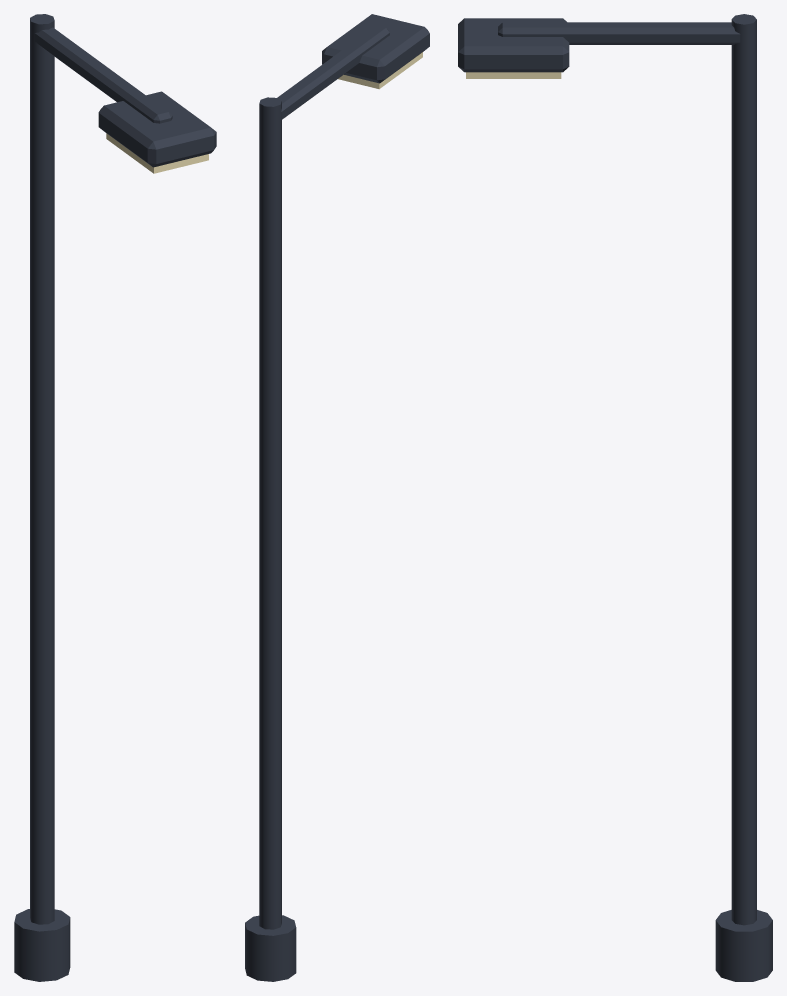
The model's file is streetlight.glb.
The picture shows the model from 3 angles, left to right: view 1: azimuth 30°, elevation 25°; view 2: azimuth 150°, elevation 25°; view 3: azimuth 270°, elevation 25°; orthographic projection. The views are drawn at different scales.
Parts seen in each view (by area): view 1: streetlight_pole, streetlight_lamp; view 2: streetlight_pole, streetlight_lamp; view 3: streetlight_pole.
Part boxes in pixels (<box>): streetlight_pole: <box>14,14,216,981</box>; streetlight_lamp: <box>106,133,208,173</box>; streetlight_pole: <box>245,14,429,981</box>; streetlight_lamp: <box>338,52,422,89</box>; streetlight_pole: <box>458,14,772,981</box>.
Size of the model in its own units: 0.5 by 6.6 by 1.98.
